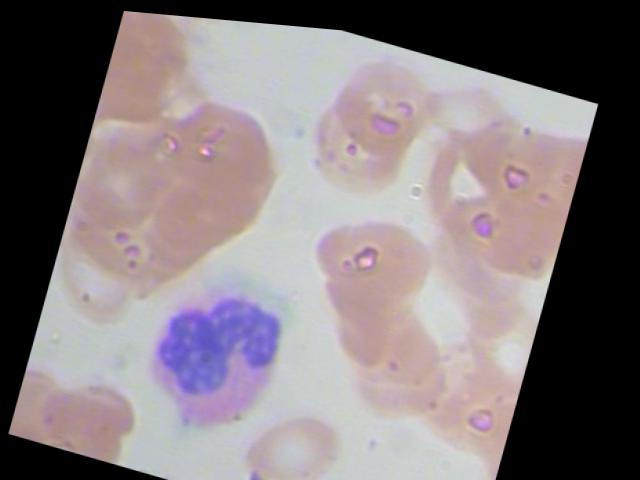Red Blood Cells: (151, 77, 290, 221), (437, 155, 575, 299), (290, 78, 419, 213), (299, 189, 441, 311), (315, 32, 443, 167), (67, 108, 186, 247), (414, 332, 530, 464), (403, 45, 528, 164), (34, 357, 163, 467), (314, 274, 450, 376), (325, 303, 462, 404), (322, 333, 459, 434), (299, 237, 435, 338), (43, 227, 153, 343), (237, 382, 366, 479), (159, 11, 265, 33)
White Blood Cells: (130, 265, 308, 452)
